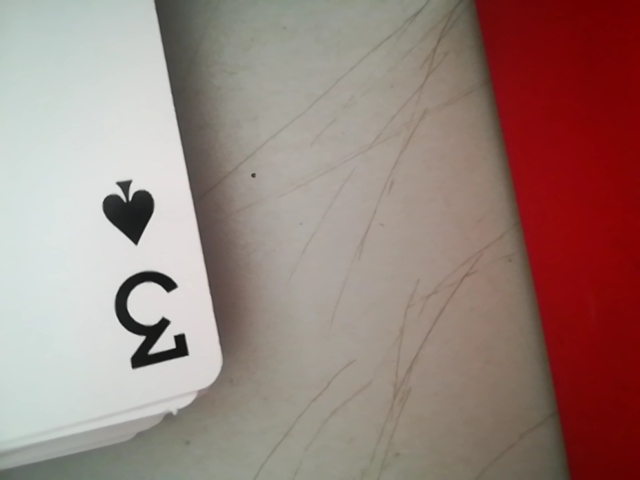ht 3: (79, 166, 211, 408)
